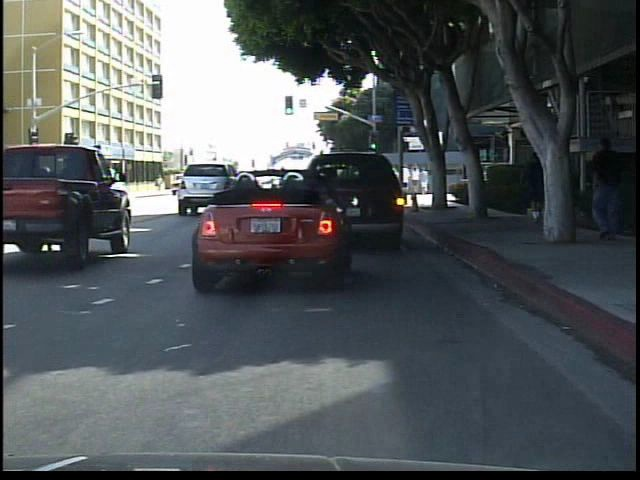person: (585, 134, 630, 241), (519, 149, 548, 230), (155, 172, 168, 194)
